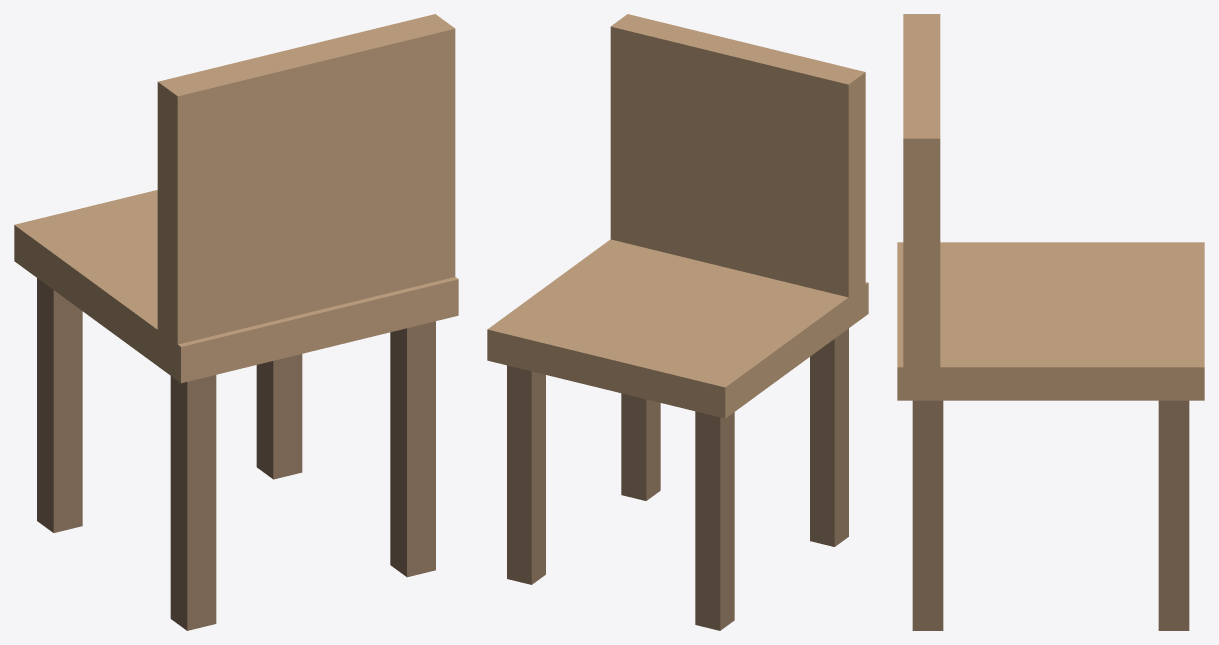
File: chair.glb
3 renders of one model, left to right at view 1: azimuth 30°, elevation 25°; view 2: azimuth 150°, elevation 25°; view 3: azimuth 270°, elevation 25°, orthographic. The views are drawn at different scales.
Visible parts, largest first — view 1: chair_1, chair_0, chair_3, chair_5, chair_2, chair_4; view 2: chair_1, chair_0, chair_2, chair_4, chair_3, chair_5; view 3: chair_0, chair_1, chair_4, chair_5.
Part boxes in pixels (<box>): chair_1: <box>157,14,455,350</box>; chair_0: <box>14,190,458,383</box>; chair_3: <box>170,375,216,630</box>; chair_5: <box>390,321,435,577</box>; chair_2: <box>37,278,82,532</box>; chair_4: <box>256,354,302,479</box>; chair_1: <box>610,14,865,301</box>; chair_0: <box>487,239,868,418</box>; chair_2: <box>695,411,734,630</box>; chair_4: <box>507,365,545,584</box>; chair_3: <box>810,328,848,546</box>; chair_5: <box>621,393,660,500</box>; chair_0: <box>897,242,1204,400</box>; chair_1: <box>903,14,940,367</box>; chair_4: <box>1158,400,1189,630</box>; chair_5: <box>912,400,943,630</box>.
Size of the model in its own units: 0.48 by 0.895 by 0.5.
